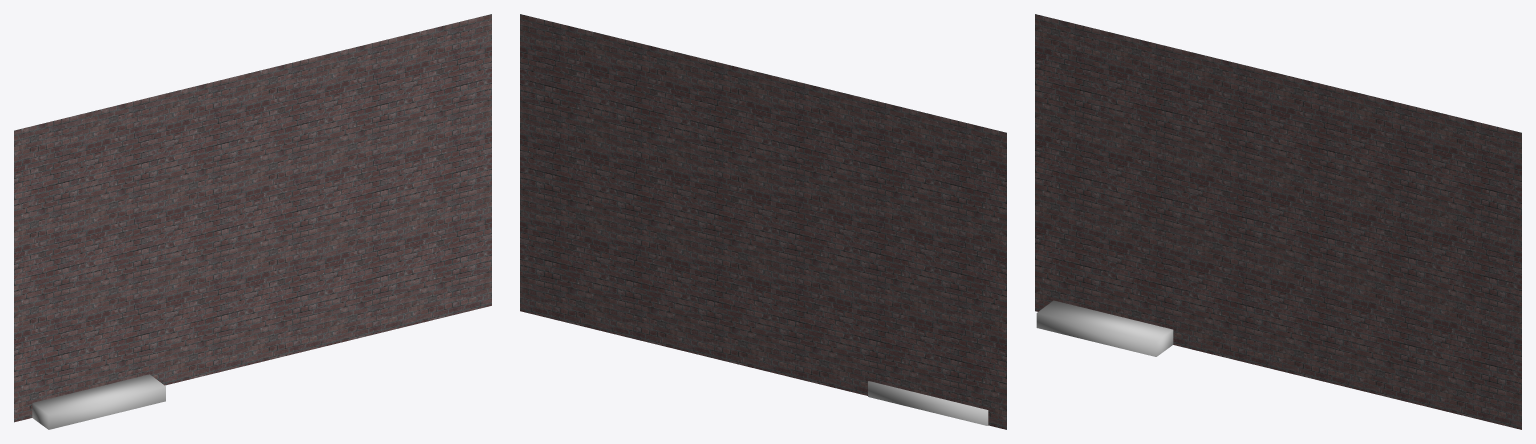
File: Wall_A_Brick_MetalDoorsShop_6x_COL.FBX
3 views of the same model, side by side, from view 1: azimuth 30°, elevation 25°; view 2: azimuth 150°, elevation 25°; view 3: azimuth 330°, elevation 25° (orthographic).
Visible parts, largest first — view 1: Wall_A_Brick_MetalDoorsShop_6x_COL; view 2: Wall_A_Brick_MetalDoorsShop_6x_COL; view 3: Wall_A_Brick_MetalDoorsShop_6x_COL.
Boxes of the visible parts, bbox=[...] form: Wall_A_Brick_MetalDoorsShop_6x_COL: bbox=[14, 14, 491, 429]; Wall_A_Brick_MetalDoorsShop_6x_COL: bbox=[520, 14, 1006, 429]; Wall_A_Brick_MetalDoorsShop_6x_COL: bbox=[1035, 14, 1521, 429].
Bounding box in the file's own units: 600 × 350 × 37.84.
